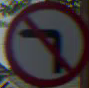Don't turn left: (10, 18, 72, 74)
